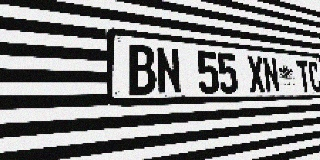5: (196, 50, 220, 94), (217, 52, 239, 94)
B: (127, 44, 157, 95)
C: (307, 61, 320, 92)
N: (155, 46, 182, 95), (262, 57, 280, 93)
T: (296, 60, 312, 92)
X: (246, 55, 266, 93)
